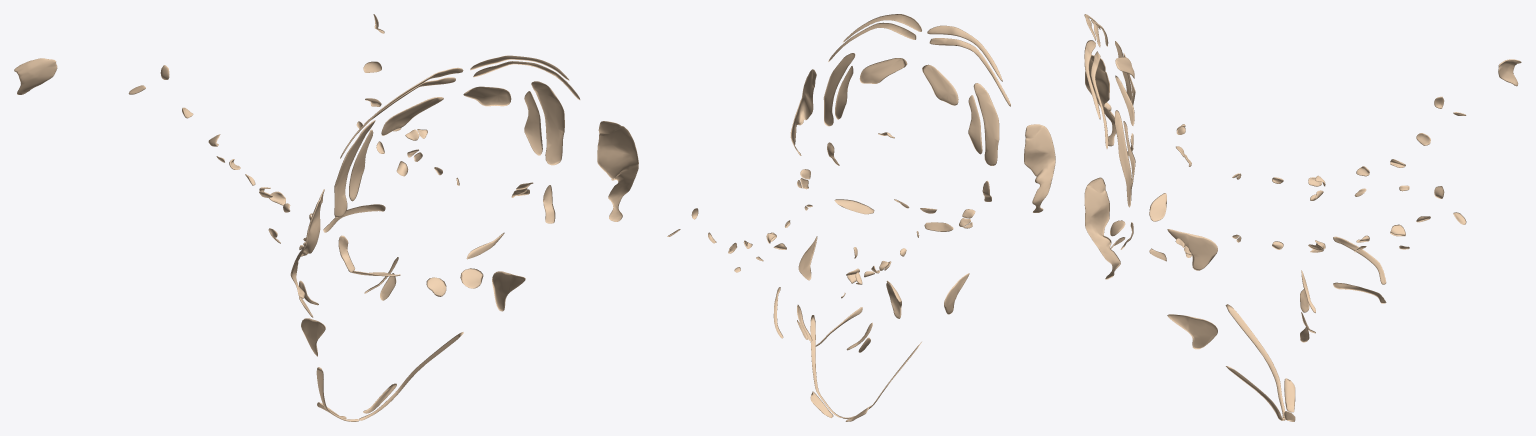
File: neck__insertions.9f8611b1f1.glb
3 renders of one model, left to right at view 1: azimuth 30°, elevation 25°; view 2: azimuth 150°, elevation 25°; view 3: azimuth 270°, elevation 25°, orthographic. The views are drawn at different scales.
Visible parts, largest first — view 1: Sternocleidomastoid muscle.el, Obliquus superior capitis muscle.ol, Serratus posterior superior muscle.el, Obliquus superior capitis muscle.or, Sternocleidomastoid muscle.er, Rectus posterior major capitis muscle.or, Medial pterygoid muscle.el, Rectus posterior minor capitis muscle.ol, Rectus posterior minor capitis muscle.or, Rectus posterior major capitis muscle.ol; view 2: Sternocleidomastoid muscle.er, Obliquus superior capitis muscle.or, Sternocleidomastoid muscle.el, Obliquus superior capitis muscle.ol, Rectus posterior minor capitis muscle.ol, Rectus posterior minor capitis muscle.or, Ascending part of trapezius muscle.er, Spinalis capitis muscle.er, Rectus posterior major capitis muscle.ol, Ascending part of trapezius muscle.el, Spinalis capitis muscle.el, Rectus posterior major capitis muscle.or (+3 smaller); view 3: Sternocleidomastoid muscle.el, Medial pterygoid muscle.er, Sternocleidomastoid muscle.er, Medial pterygoid muscle.el, Mylohyoid muscle.or, Obliquus superior capitis muscle.ol, Thyrohyoid muscle.er, Ascending part of trapezius muscle.el.
Boxes of the visible parts, x1,y1,x2,y2 form: Sternocleidomastoid muscle.el: (597, 121, 638, 221); Obliquus superior capitis muscle.ol: (531, 81, 564, 165); Serratus posterior superior muscle.el: (14, 58, 57, 94); Obliquus superior capitis muscle.or: (334, 120, 375, 217); Sternocleidomastoid muscle.er: (290, 189, 324, 298); Rectus posterior major capitis muscle.or: (524, 91, 542, 155); Medial pterygoid muscle.el: (492, 271, 525, 311); Rectus posterior minor capitis muscle.ol: (381, 97, 443, 135); Rectus posterior minor capitis muscle.or: (463, 86, 511, 106); Rectus posterior major capitis muscle.ol: (349, 129, 373, 201); Sternocleidomastoid muscle.er: (1024, 124, 1055, 212); Obliquus superior capitis muscle.or: (973, 83, 999, 165); Sternocleidomastoid muscle.el: (790, 69, 816, 155); Obliquus superior capitis muscle.ol: (823, 53, 855, 126); Rectus posterior minor capitis muscle.ol: (922, 64, 958, 105); Rectus posterior minor capitis muscle.or: (859, 58, 907, 83); Ascending part of trapezius muscle.er: (927, 25, 1002, 81); Spinalis capitis muscle.er: (929, 38, 1010, 106); Rectus posterior major capitis muscle.ol: (968, 95, 982, 154); Ascending part of trapezius muscle.el: (842, 14, 921, 42); Spinalis capitis muscle.el: (828, 22, 916, 61); Rectus posterior major capitis muscle.or: (835, 66, 853, 119); Sternocleidomastoid muscle.el: (1084, 177, 1120, 279); Medial pterygoid muscle.er: (1167, 229, 1217, 270); Sternocleidomastoid muscle.er: (1084, 55, 1116, 146); Medial pterygoid muscle.el: (1167, 314, 1217, 349); Mylohyoid muscle.or: (1225, 304, 1284, 417); Obliquus superior capitis muscle.ol: (1115, 110, 1132, 207); Thyrohyoid muscle.er: (1333, 236, 1386, 284); Ascending part of trapezius muscle.el: (1084, 40, 1100, 119).
Bounding box in the file's own units: 134 × 148 × 152.
